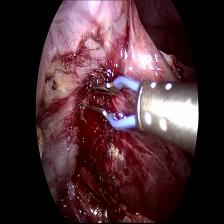Bipolar: (84, 75, 205, 154)
